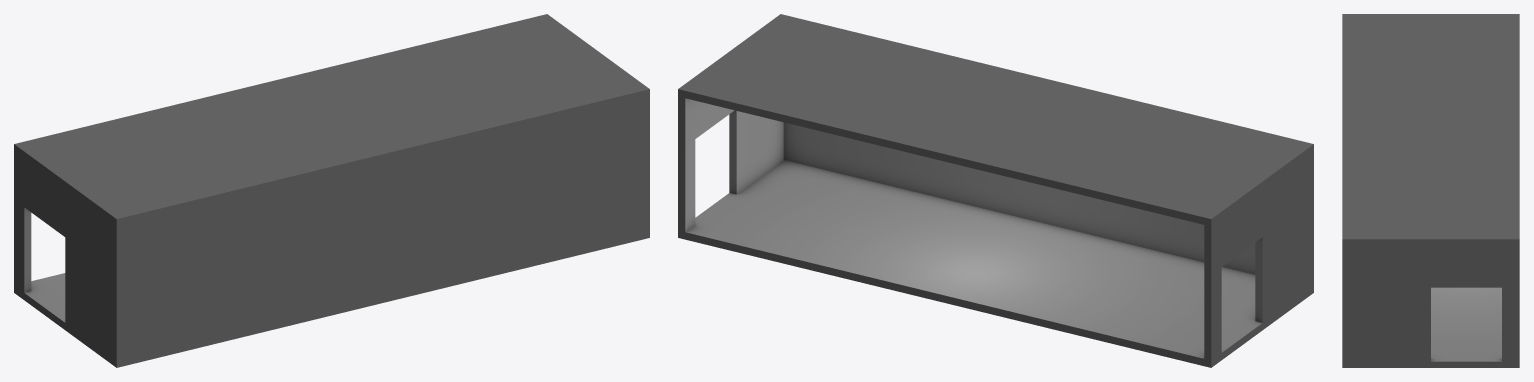
Rendered from Room_All_Standard_Sz6.fbx.
The picture shows the model from 3 angles, left to right: view 1: azimuth 30°, elevation 25°; view 2: azimuth 150°, elevation 25°; view 3: azimuth 270°, elevation 25°; orthographic projection. The views are drawn at different scales.
Visible parts, largest first — view 1: RoomSz6; view 2: RoomSz6; view 3: RoomSz6.
Boxes of the visible parts, left/top/right/bottom form: RoomSz6: left=14, top=14, right=649, bottom=367; RoomSz6: left=678, top=14, right=1313, bottom=367; RoomSz6: left=1342, top=14, right=1519, bottom=367.
Size of the model in its own units: 1500 by 400 by 500.
1 material, 1 textured.
